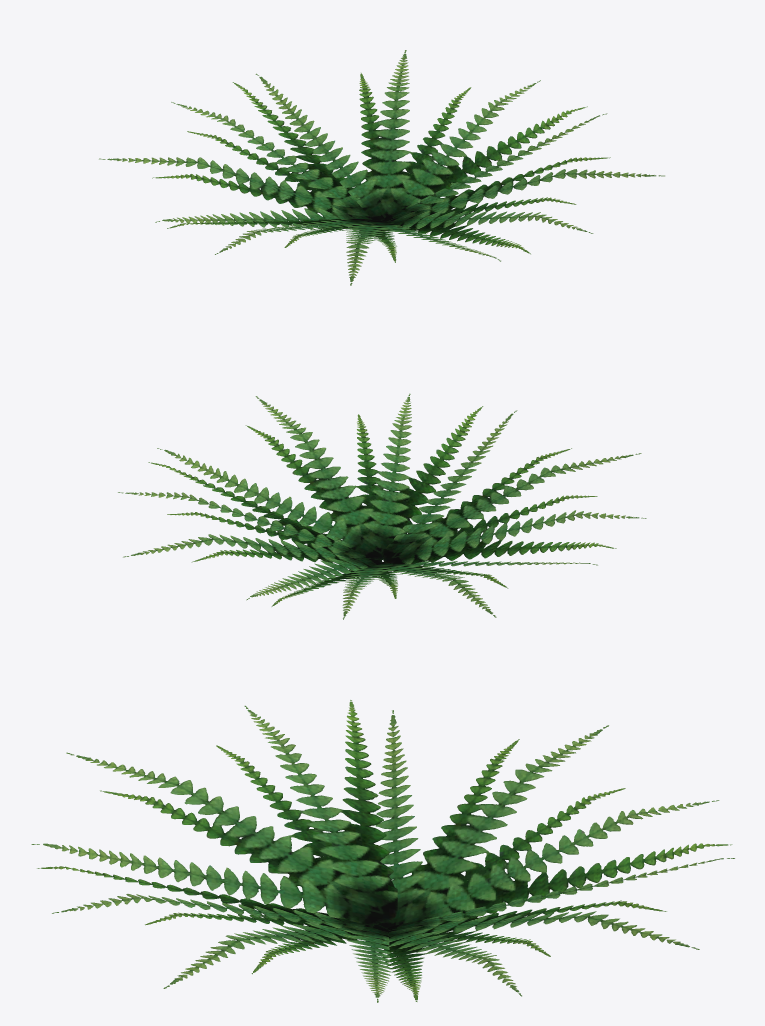
Rendered from frst_fern_green_a2_l2.fbx.
3 views of the same model, one above another, from view 1: azimuth 30°, elevation 25°; view 2: azimuth 150°, elevation 25°; view 3: azimuth 270°, elevation 25° (orthographic). The views are drawn at different scales.
Parts seen in each view (by area): view 1: mesh_node; view 2: mesh_node; view 3: mesh_node.
Boxes of the visible parts, x1,y1,x2,y2 form: mesh_node: (99, 50, 664, 285); mesh_node: (118, 393, 646, 619); mesh_node: (31, 700, 734, 1002).
Bounding box in the file's own units: 2.99 × 0.3956 × 2.94.
